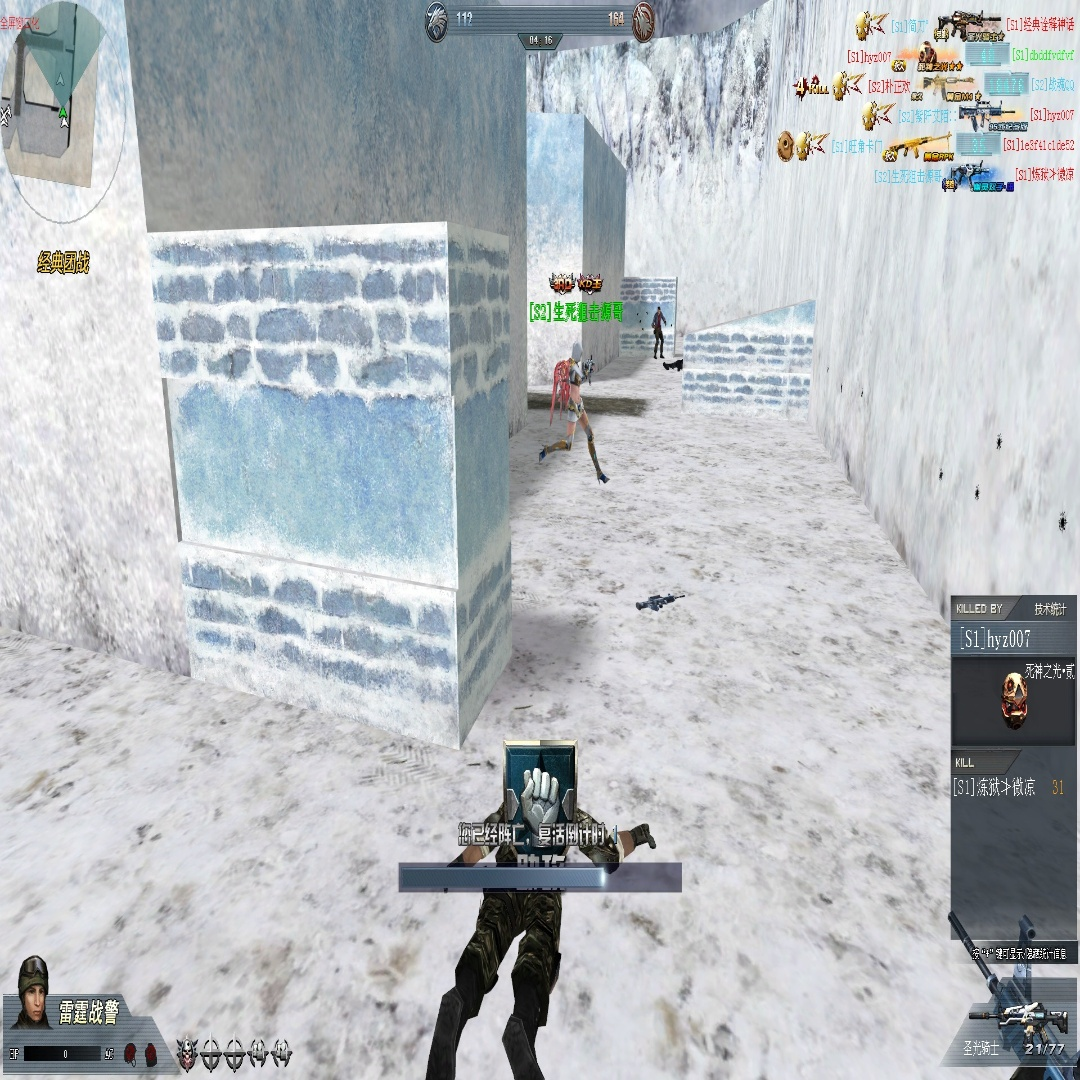ct: (563, 341, 602, 488)
t: (652, 306, 665, 363)
